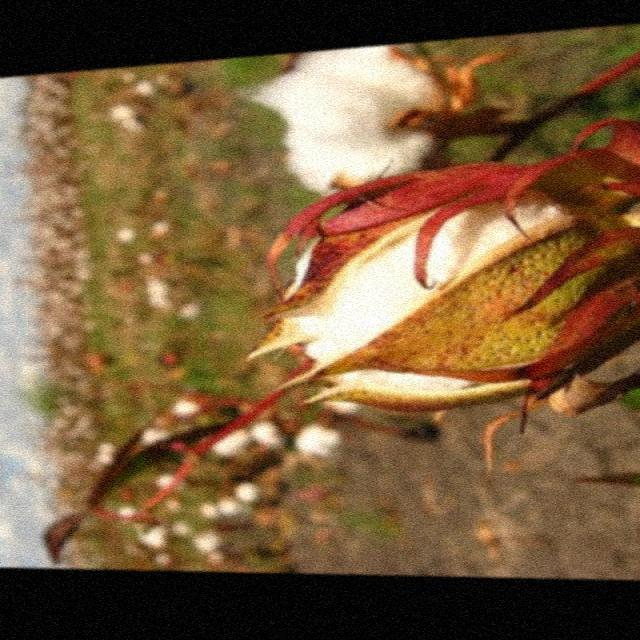Matured Cotton Boll: (250, 45, 491, 184)
Split Cotton Boll: (263, 170, 640, 421)
